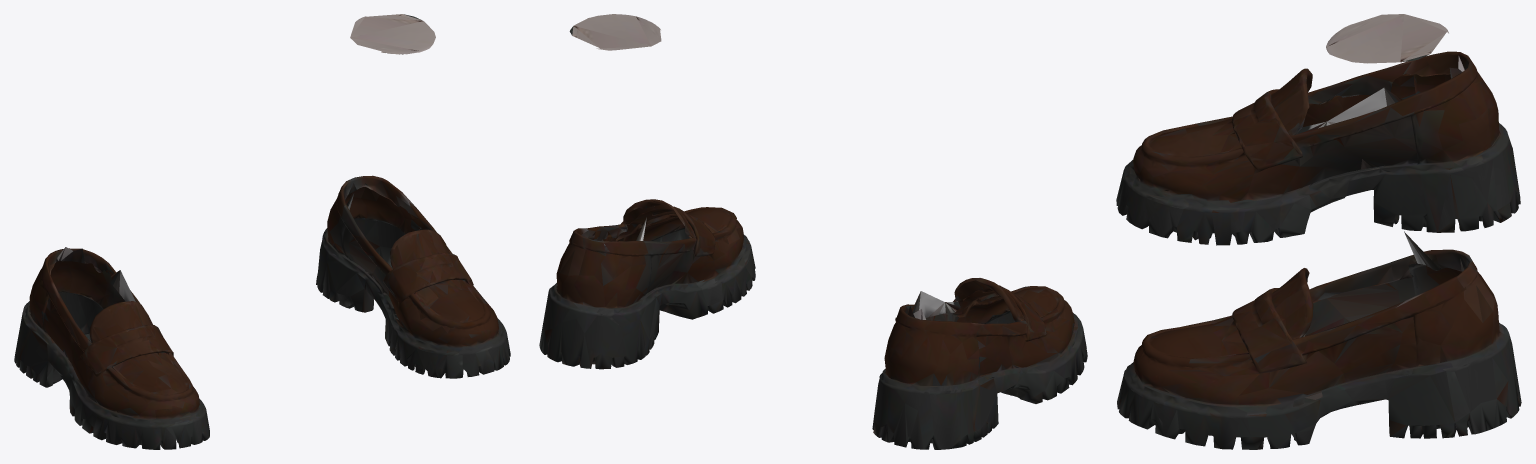
The model's file is shoes_f_loafers.glb.
3 views of the same model, side by side, from view 1: azimuth 30°, elevation 25°; view 2: azimuth 150°, elevation 25°; view 3: azimuth 270°, elevation 25° (orthographic). The views are drawn at different scales.
Visible parts, largest first — view 1: f_loafers; view 2: f_loafers; view 3: f_loafers.
Boxes of the visible parts, x1,y1,x2,y2 form: f_loafers: (14,14,510,449); f_loafers: (539,14,1087,449); f_loafers: (1116,14,1521,449).
Size of the model in its own units: 0.4214 by 0.2761 by 0.2648.
1 material, 1 textured.
